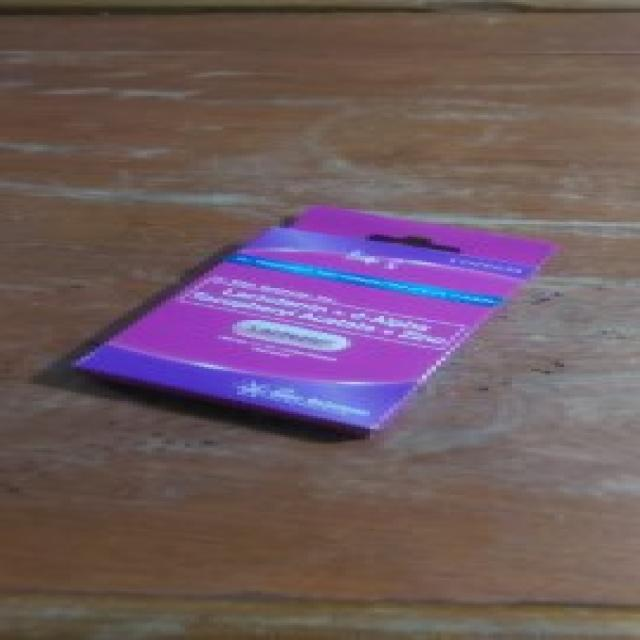Cacat: (56, 201, 559, 427)
